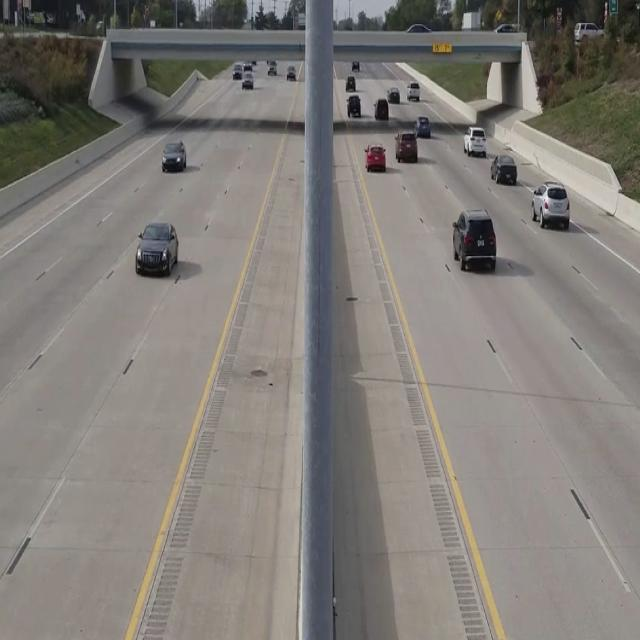car: (452, 208, 496, 270), (135, 220, 178, 275), (532, 181, 570, 230), (490, 152, 517, 185), (161, 139, 186, 171), (394, 130, 418, 162), (463, 126, 486, 157), (365, 144, 386, 172)
